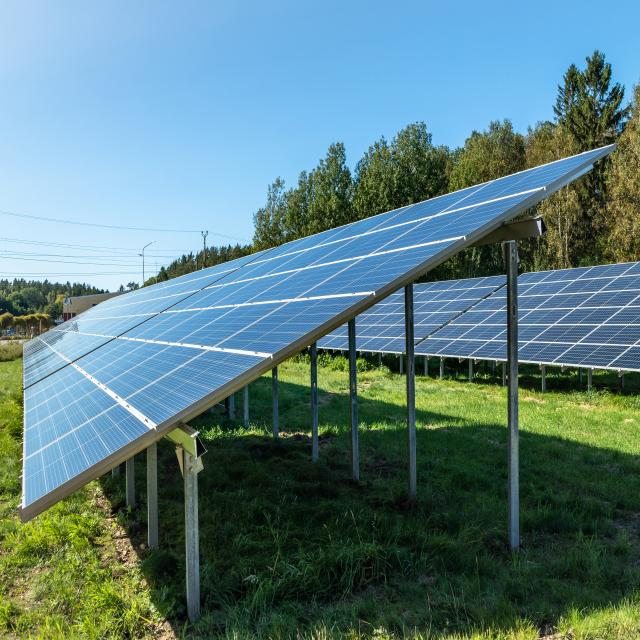clean-solar-panel: (20, 146, 614, 521)
